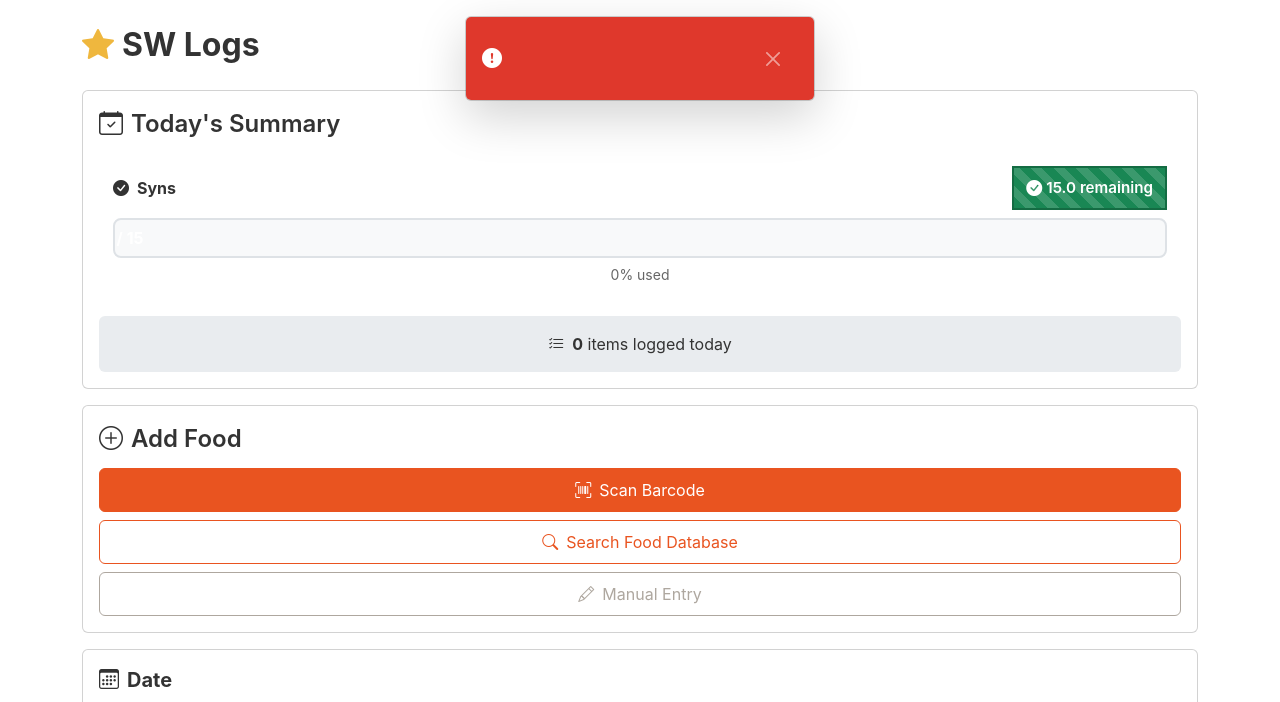
Test: CalorieTracker Component › Search Functionality › opens search panel when clicking search button
Step 1. Click the button "Search Food Database" → (640, 542), box left=99, top=520, right=1181, bottom=564
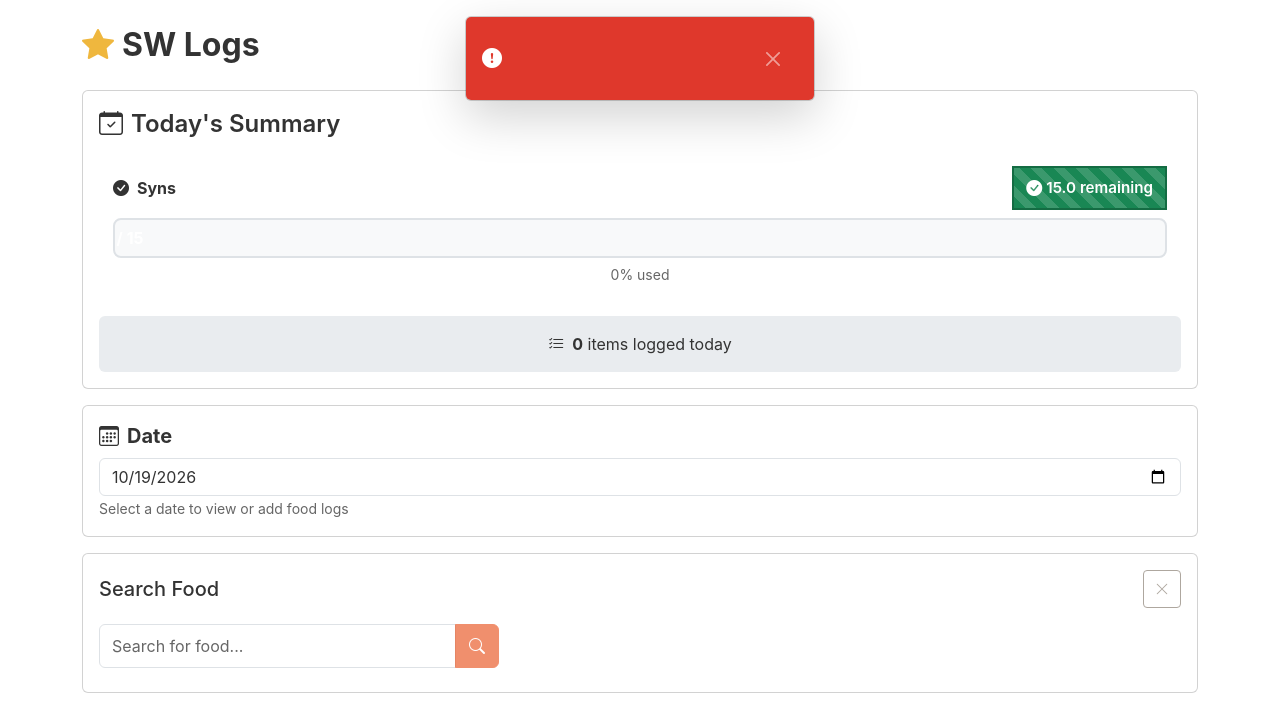
Result: the field with placeholder "Search for food..." is shown at left=99, top=624, right=456, bottom=668
